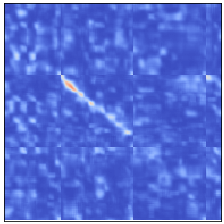action_path: (58, 75, 133, 149)
